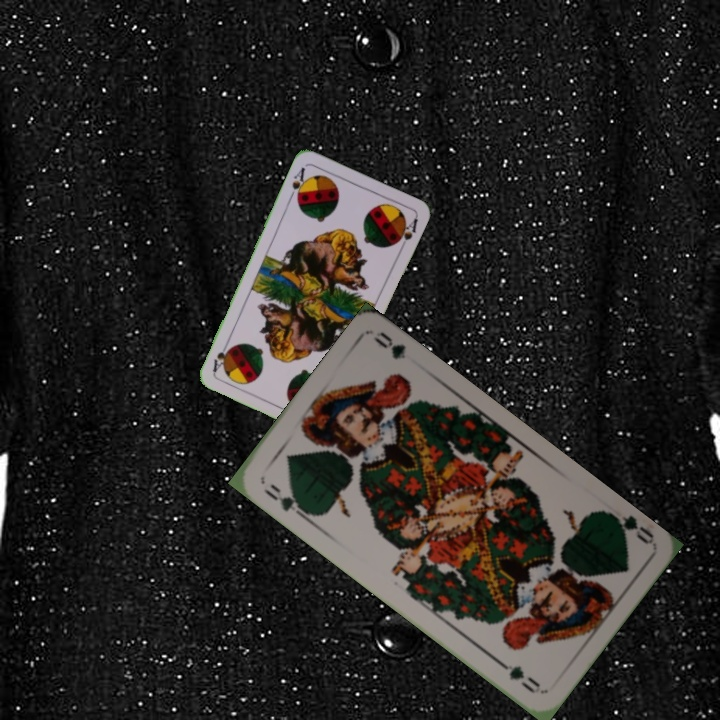GO: (602, 507, 657, 547), (259, 479, 310, 521)
SA: (286, 163, 310, 204)
